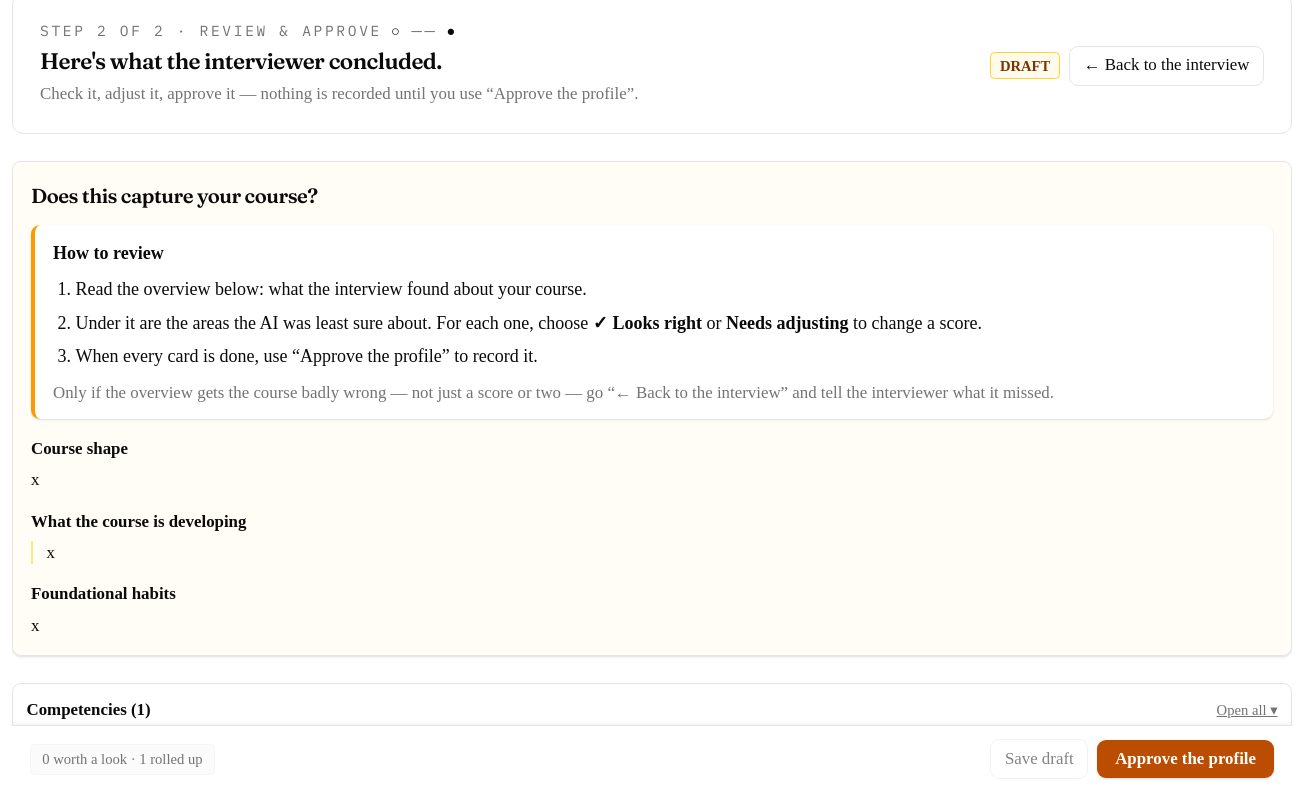
Test: after capture › the bottom action bar disappears once the Captured card shows
Expected: the element with test id "action-bar" is shown, x1=12 y1=725 x2=1292 y2=792
Click the button "Approve the profile" at (1186, 759), box x1=1097 y1=740 x2=1274 y2=779
(page scrolled)
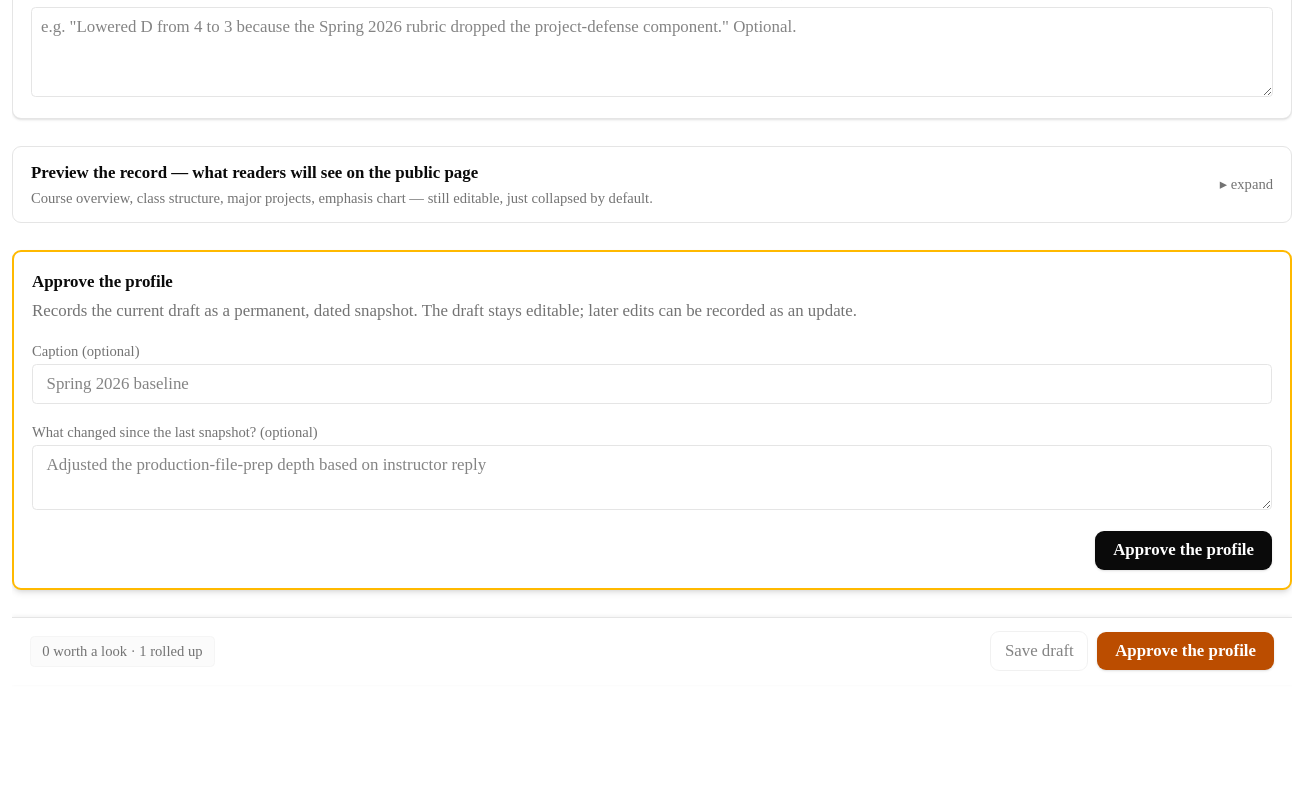
Click the 1st button "Approve the profile" at (1184, 550), box x1=1095 y1=531 x2=1272 y2=570
(page scrolled)
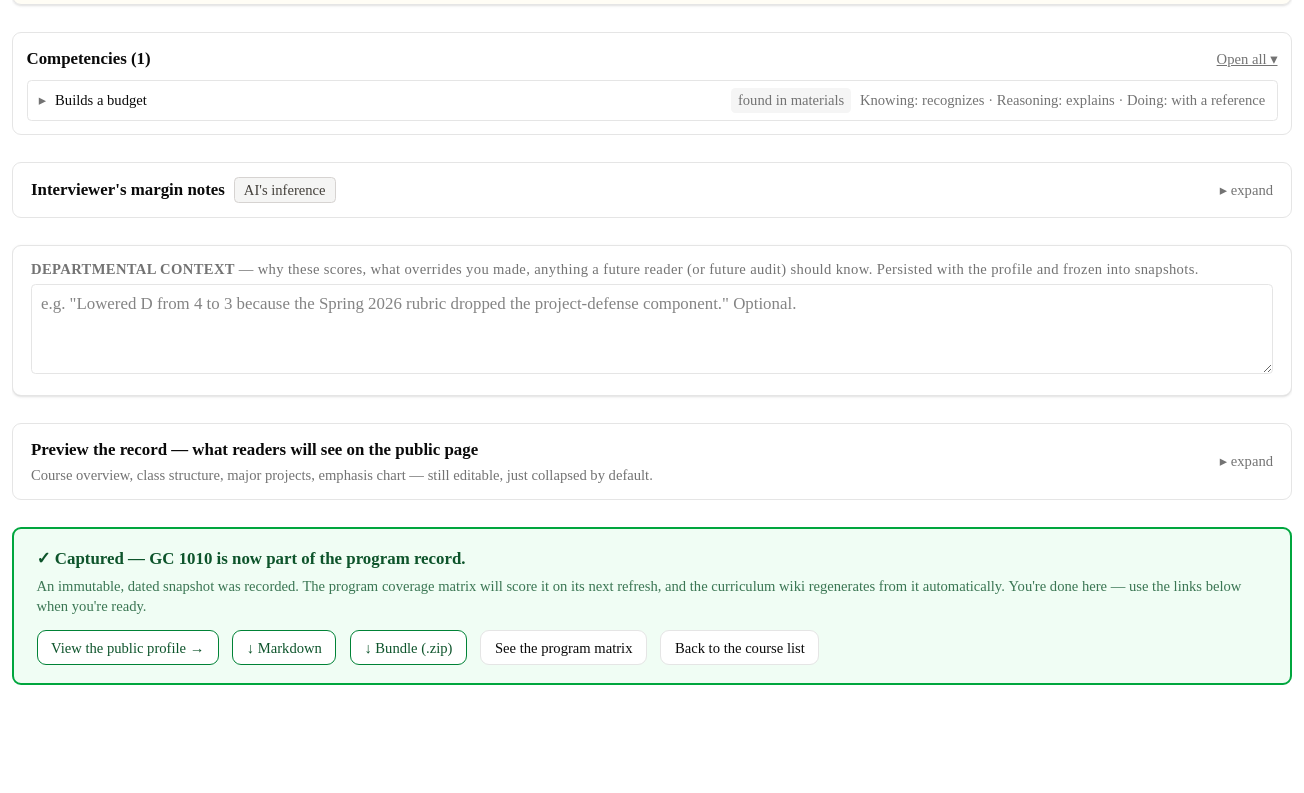
Expected: the heading "✓ Captured — GC 1010 is now part of the program record." is shown, x1=36 y1=548 x2=466 y2=568
Expected: the element with test id "action-bar" is gone
